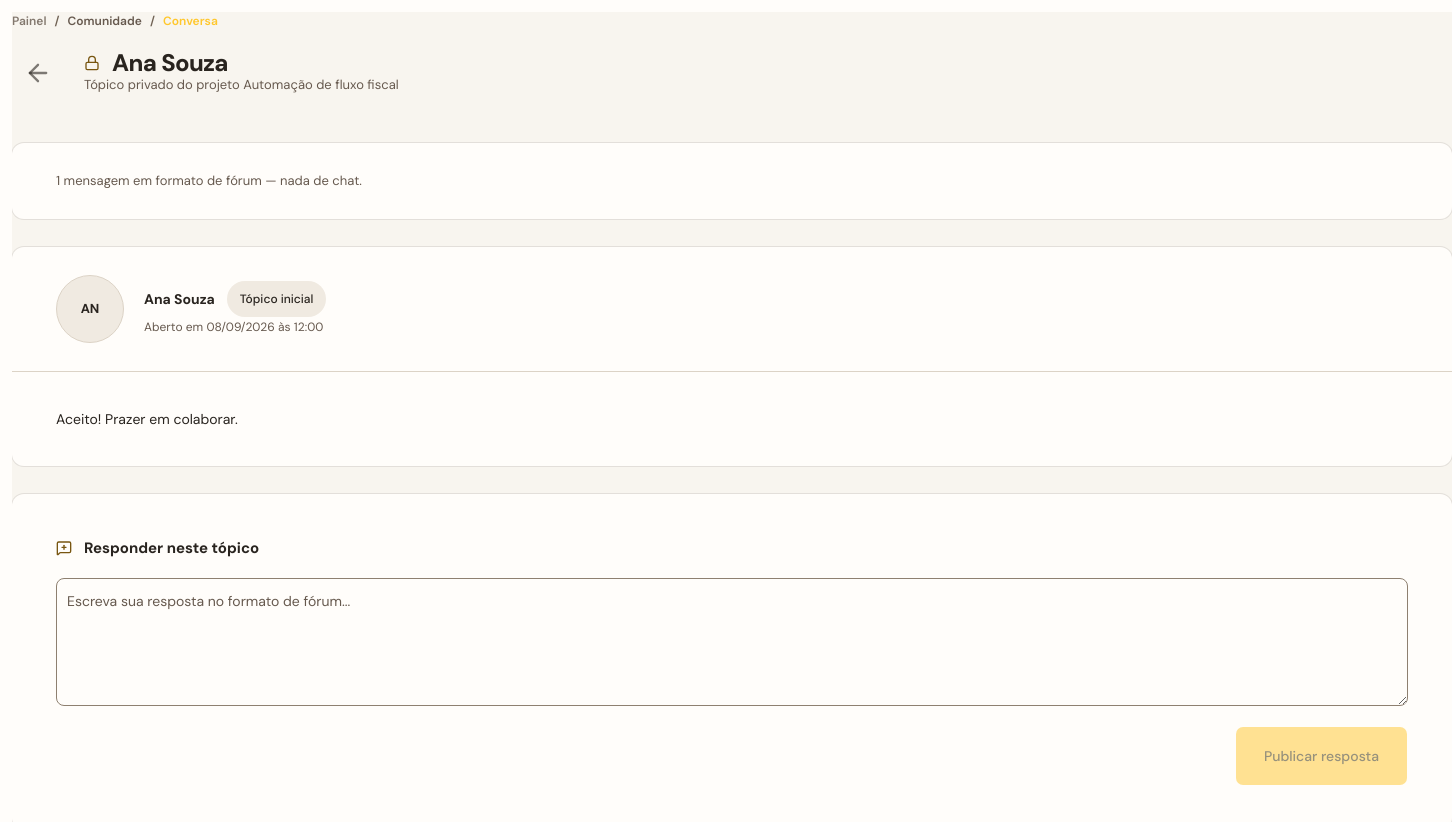
Test: ConversationPage — tópico privado › mostra erro ao falhar o envio
Type "oi" into the text box labelled "Escreva sua resposta no formato de fórum..." at (732, 642), box [56, 578, 1408, 706]
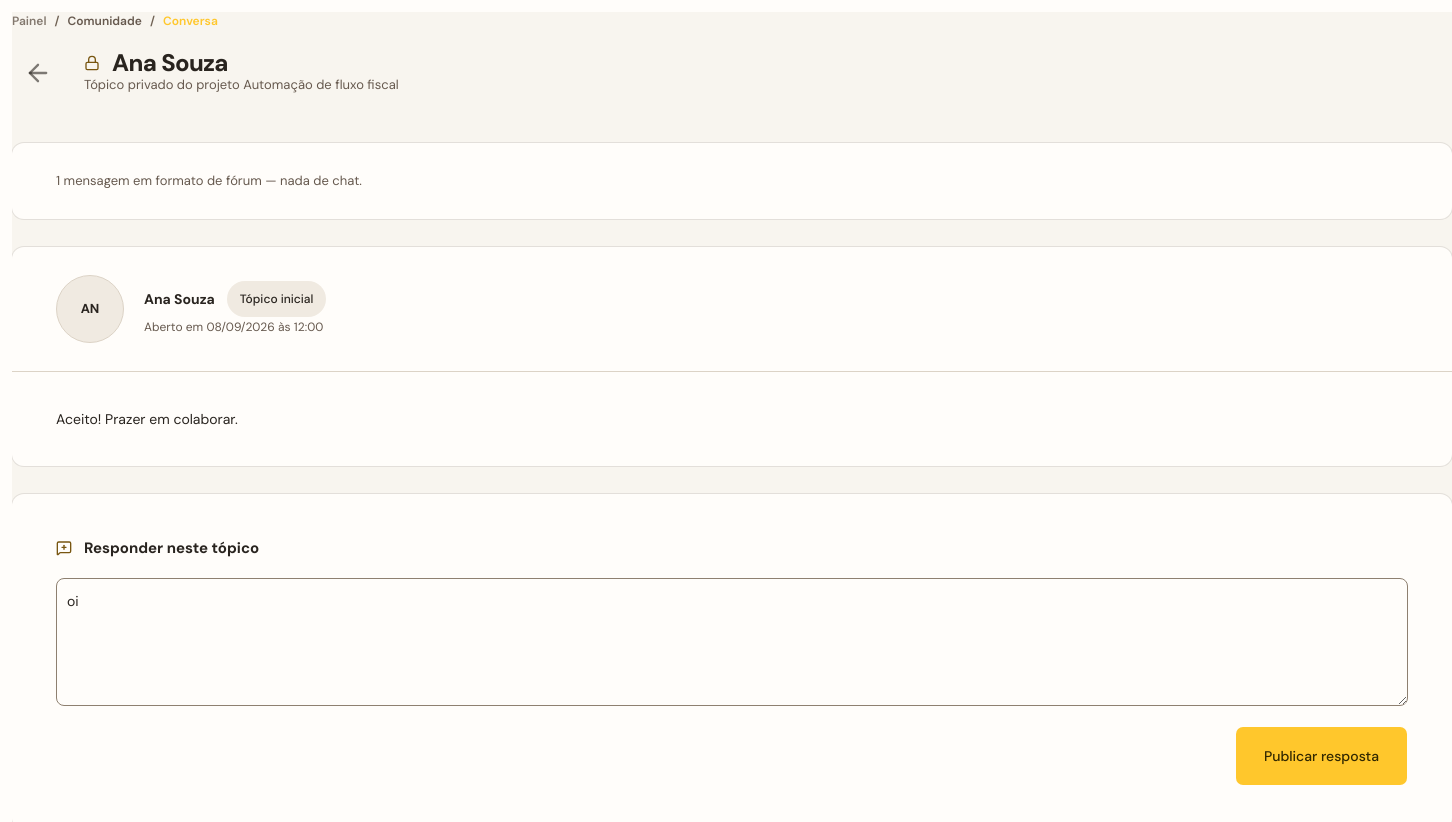
Click the button "Publicar resposta" at (1321, 756), box [1235, 726, 1408, 786]
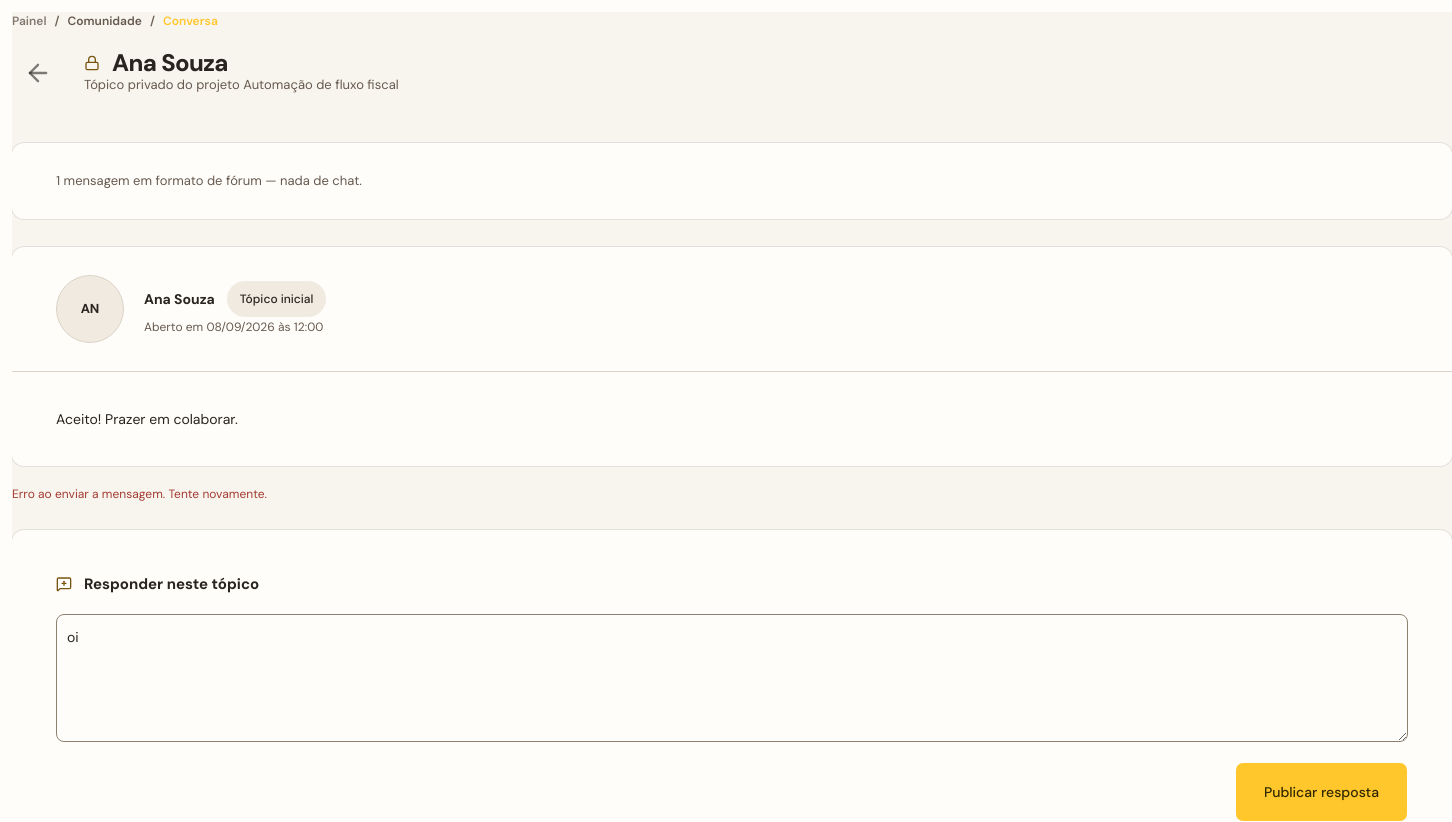
Expected: the text "Erro ao enviar a mensagem. Tente novamente." is shown, [12, 486, 267, 502]
